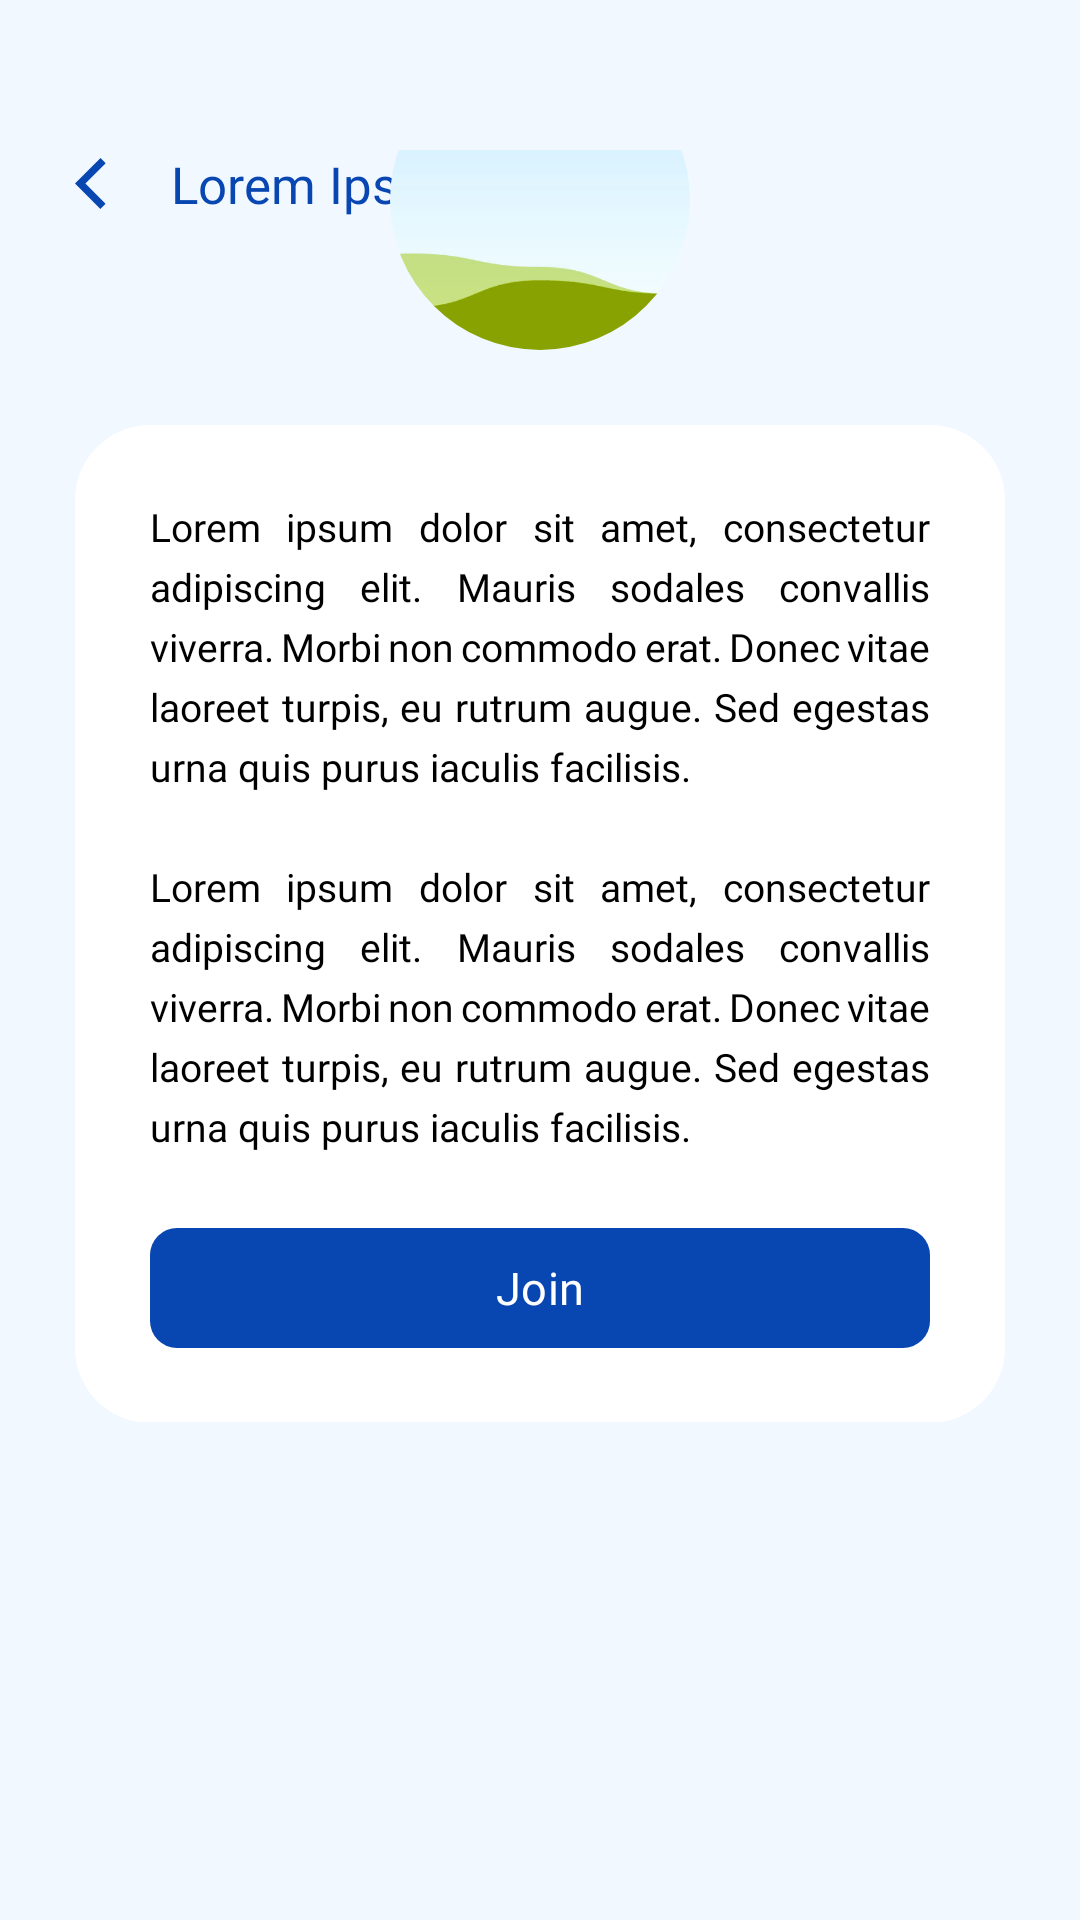

Where to tap for icons on this 1080px×1920px app screen, as [x,y]:
return: [90,183]
